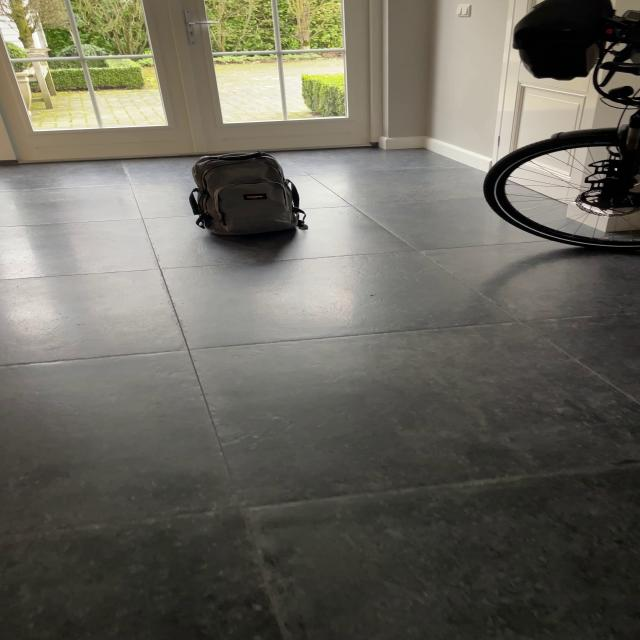backpack: (182, 147, 306, 239)
